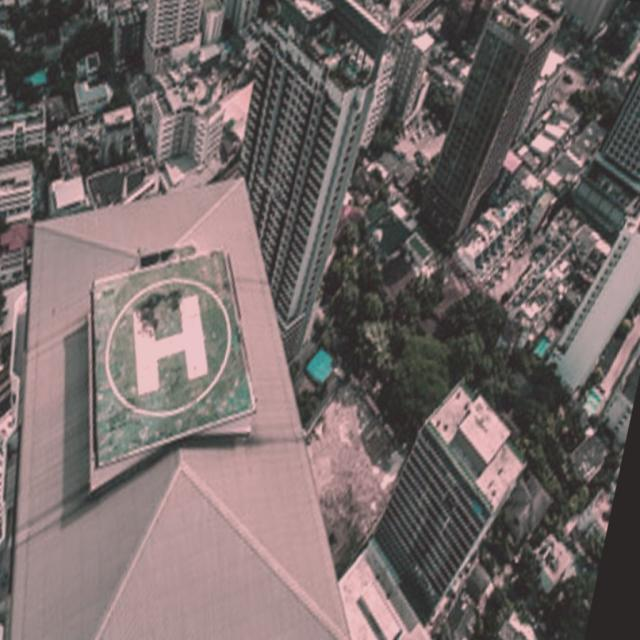helipad: (99, 273, 233, 418)
